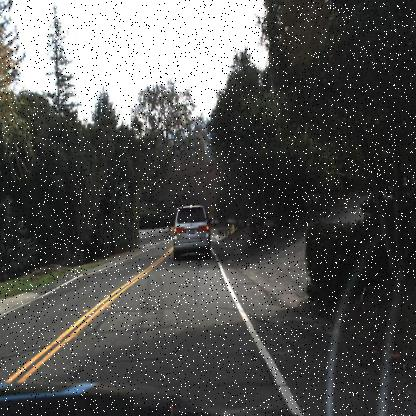car: (162, 201, 219, 264)
